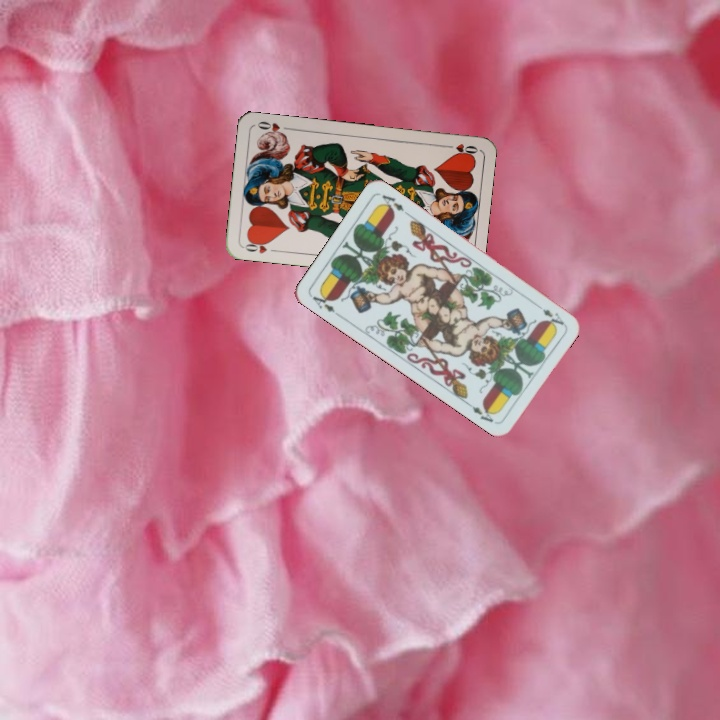EA: (308, 288, 343, 319), (531, 299, 567, 327)
HO: (240, 236, 280, 256), (440, 140, 480, 158)
